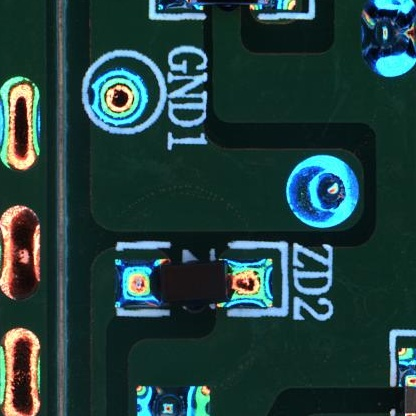spot: (285, 153, 359, 228), (358, 1, 416, 81), (90, 68, 149, 124), (135, 384, 213, 416)
